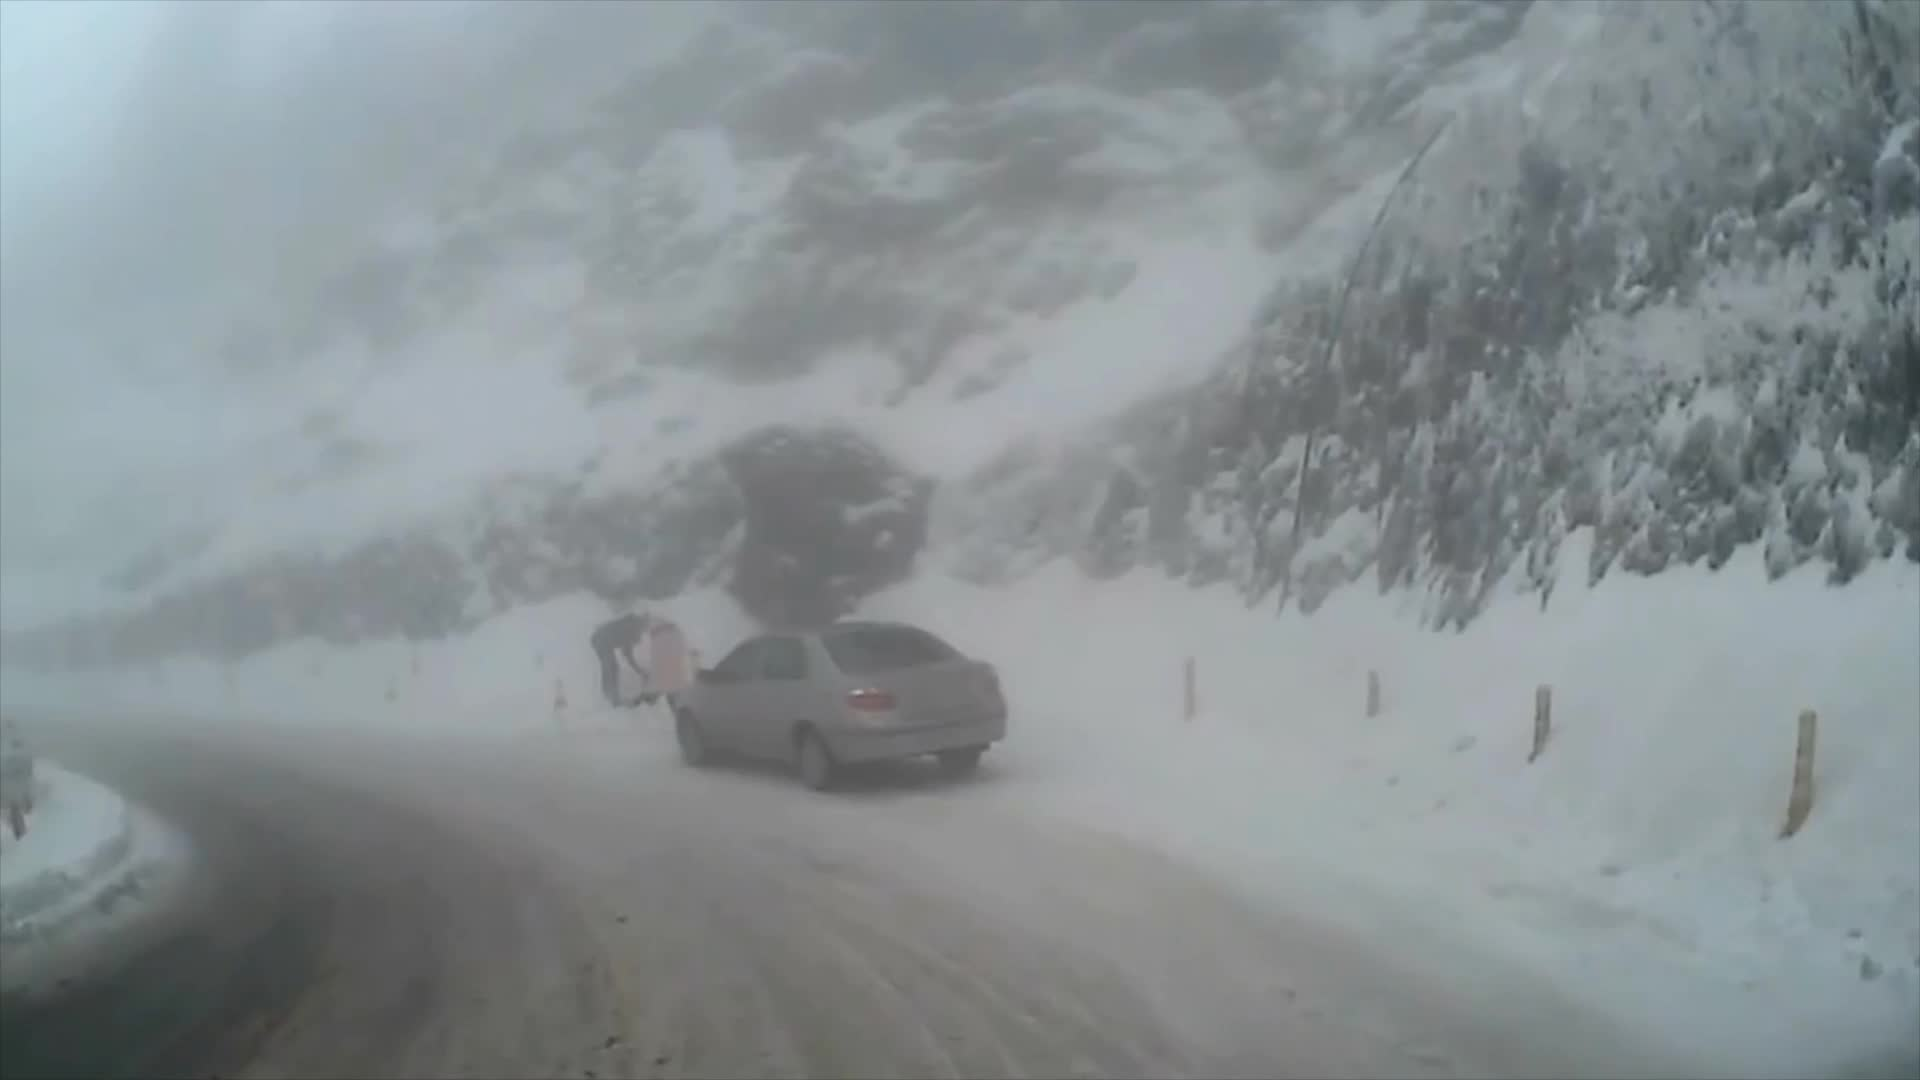pedestrian: (633, 605, 713, 732), (591, 609, 666, 708)
vehicle: (671, 620, 1005, 794)
